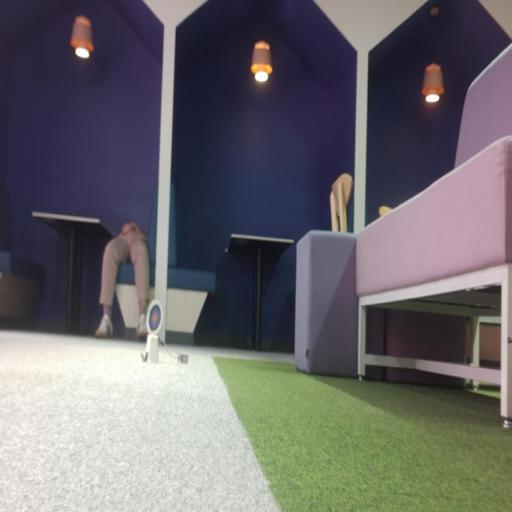target: (146, 299, 162, 336)
